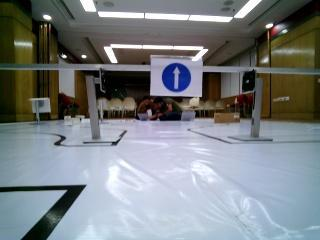straight: (150, 55, 204, 102)
